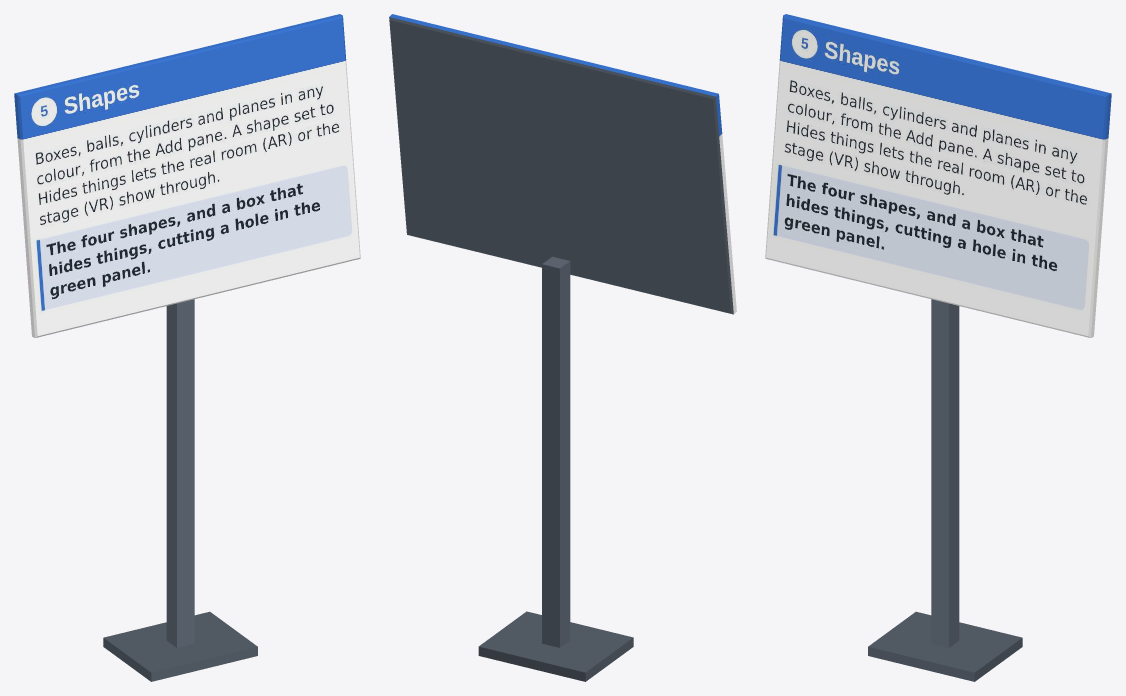
File: 05-shapes.glb
The picture shows the model from 3 angles, left to right: view 1: azimuth 30°, elevation 25°; view 2: azimuth 150°, elevation 25°; view 3: azimuth 330°, elevation 25°; orthographic projection.
Visible parts, largest first — view 1: board; view 2: board; view 3: board.
Boxes of the visible parts, x1,y1,x2,y2 form: board: (14,14,360,681); board: (389,14,736,681); board: (765,14,1111,681).
Bounding box in the file's own units: 1.1 × 1.92 × 0.28.
1 material, 1 textured.
